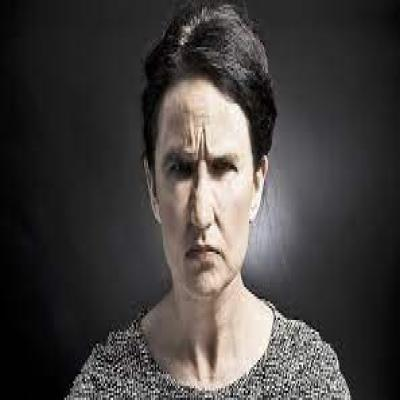angry: (143, 63, 273, 299)
